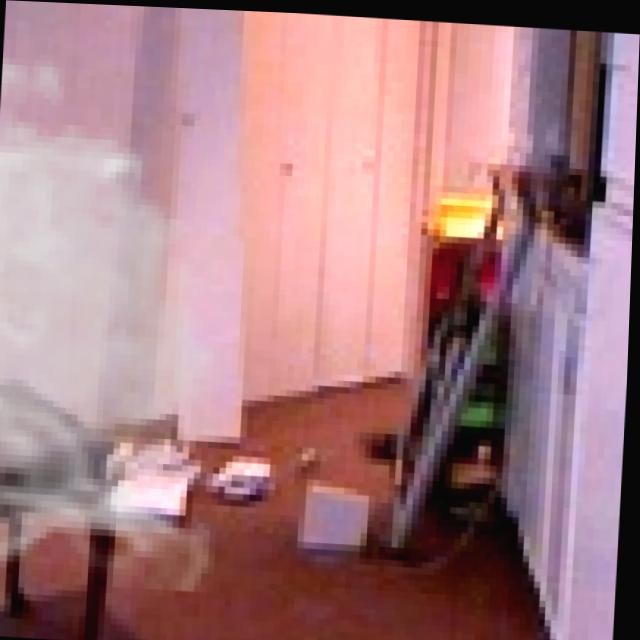smoke: (0, 19, 268, 591)
